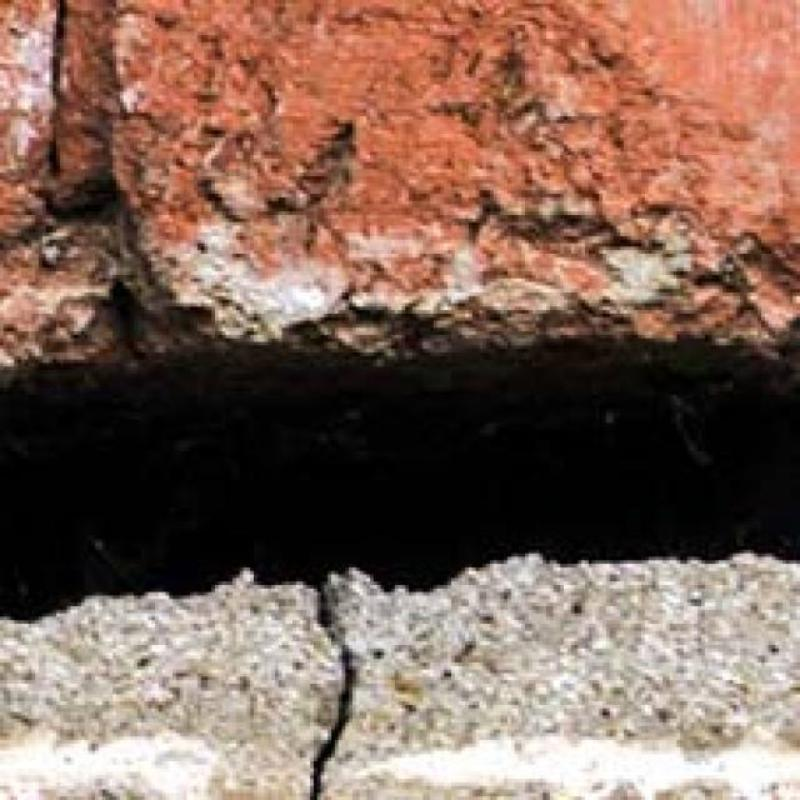pothole: (0, 342, 800, 618), (307, 581, 357, 800)
